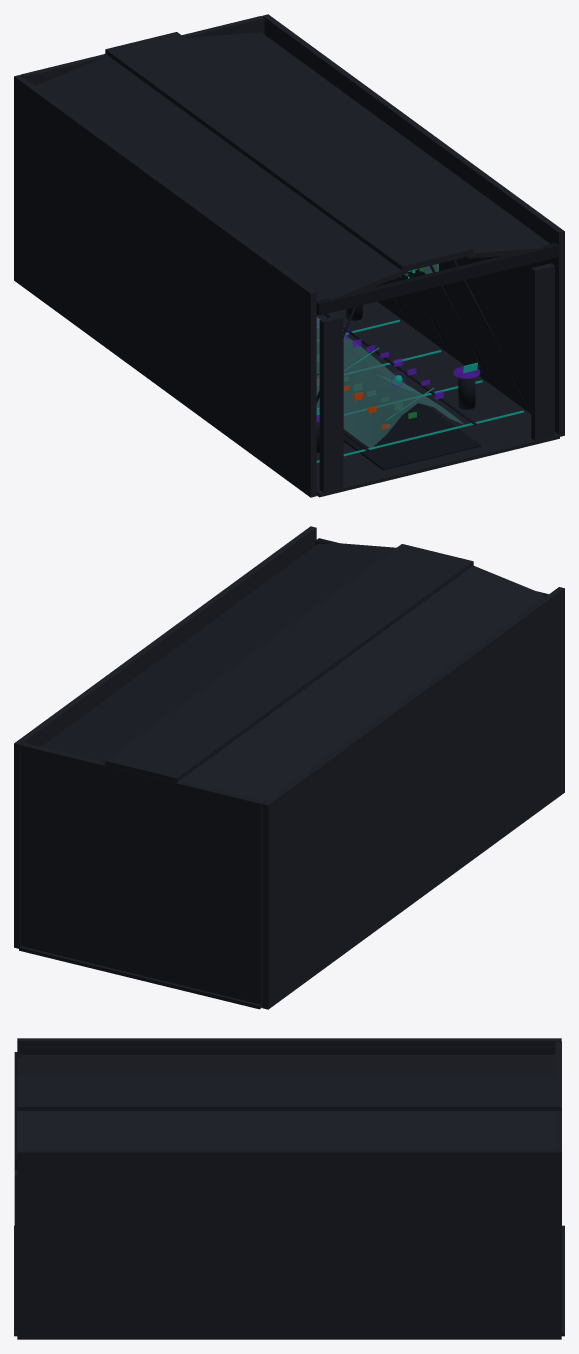
Rendered from analytics-int.glb.
3 views of the same model, one above another, from view 1: azimuth 30°, elevation 25°; view 2: azimuth 150°, elevation 25°; view 3: azimuth 270°, elevation 25° (orthographic). The views are drawn at different scales.
Visible parts, largest first — view 1: room_shell_base_joined, room_shell_detail_joined, life_timeline_glass_joined, room_shell_emissive_joined, interaction_pedestals_detail_joined, life_timeline_detail_joined; view 2: room_shell_base_joined; view 3: room_shell_base_joined, room_shell_detail_joined.
Boxes of the visible parts, bbox=[...] form: room_shell_base_joined: bbox=[14, 14, 564, 497]; room_shell_detail_joined: bbox=[316, 242, 559, 470]; life_timeline_glass_joined: bbox=[316, 317, 464, 448]; room_shell_emissive_joined: bbox=[316, 320, 523, 462]; interaction_pedestals_detail_joined: bbox=[316, 305, 475, 452]; life_timeline_detail_joined: bbox=[324, 314, 476, 451]; room_shell_base_joined: bbox=[14, 526, 564, 1009]; room_shell_base_joined: bbox=[14, 1038, 564, 1339]; room_shell_detail_joined: bbox=[14, 1052, 21, 1169].
Size of the model in its own units: 7.82 by 6.14 by 16.
